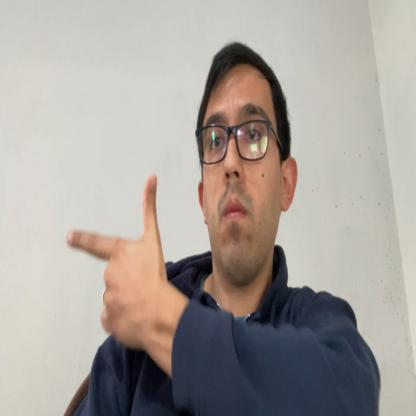G: (66, 172, 164, 349)
